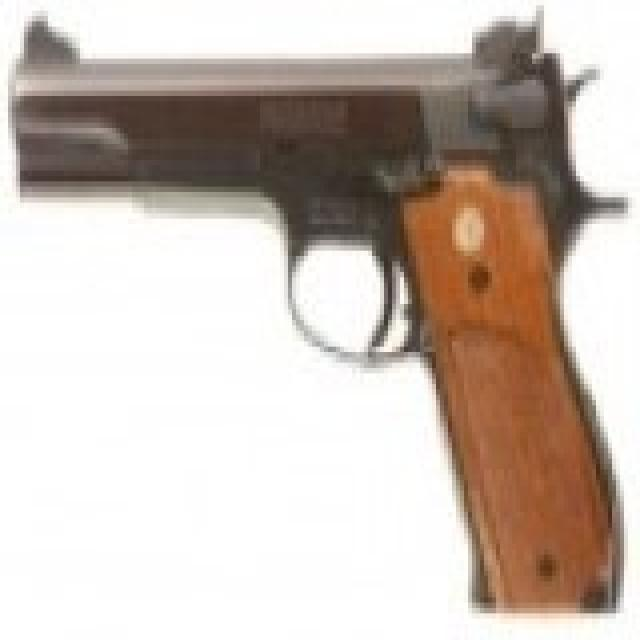gun: (12, 0, 612, 603)
